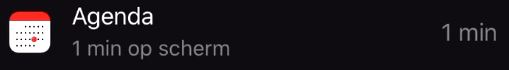name: (67, 2, 161, 34)
time: (67, 35, 126, 65)
